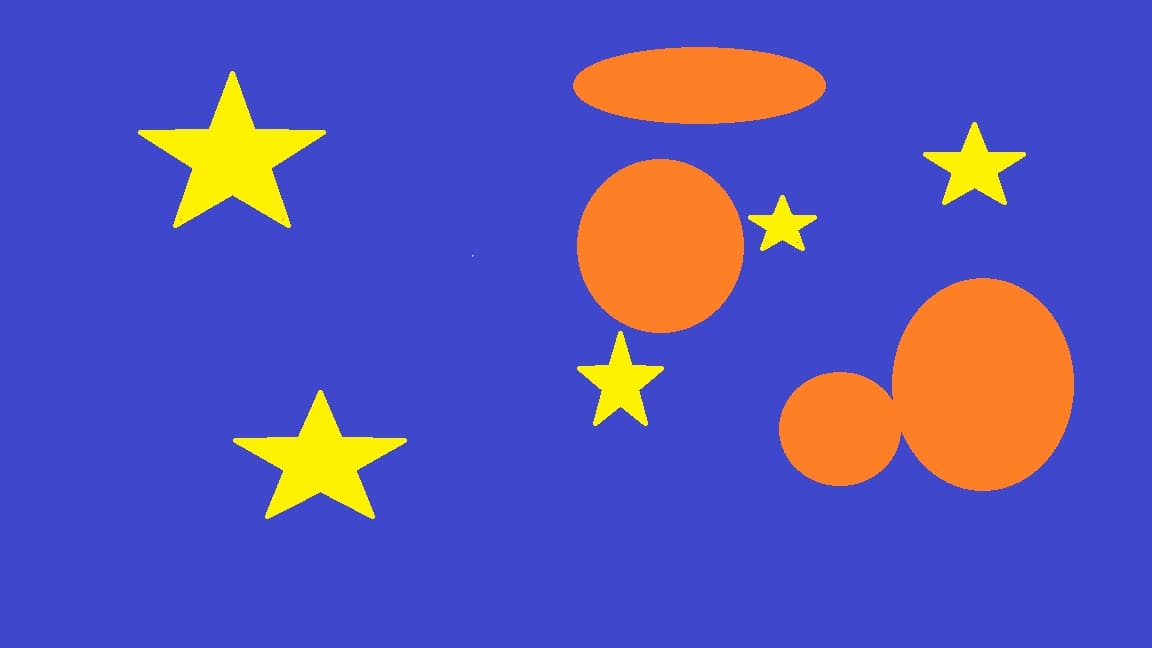Oval: (891, 278, 1077, 488), (576, 154, 744, 334), (569, 43, 825, 123), (776, 372, 897, 488)
Star: (136, 69, 330, 229), (231, 382, 408, 522), (914, 122, 1028, 207), (576, 331, 663, 427), (744, 196, 815, 253)
